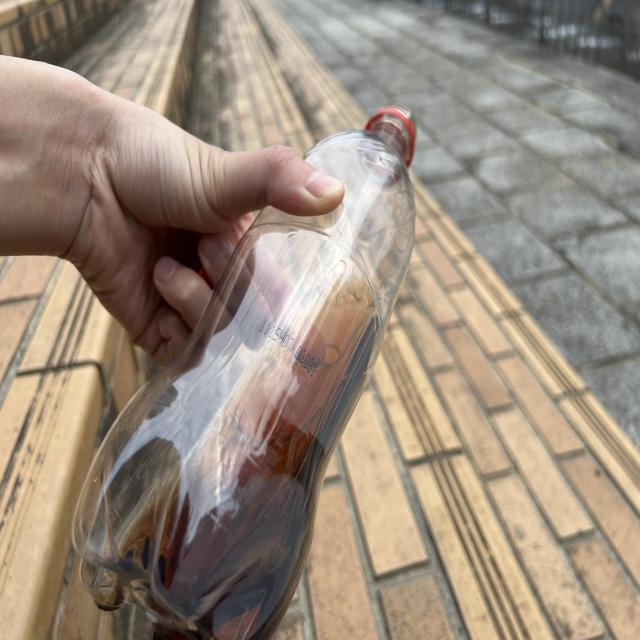low: (72, 105, 416, 640)
